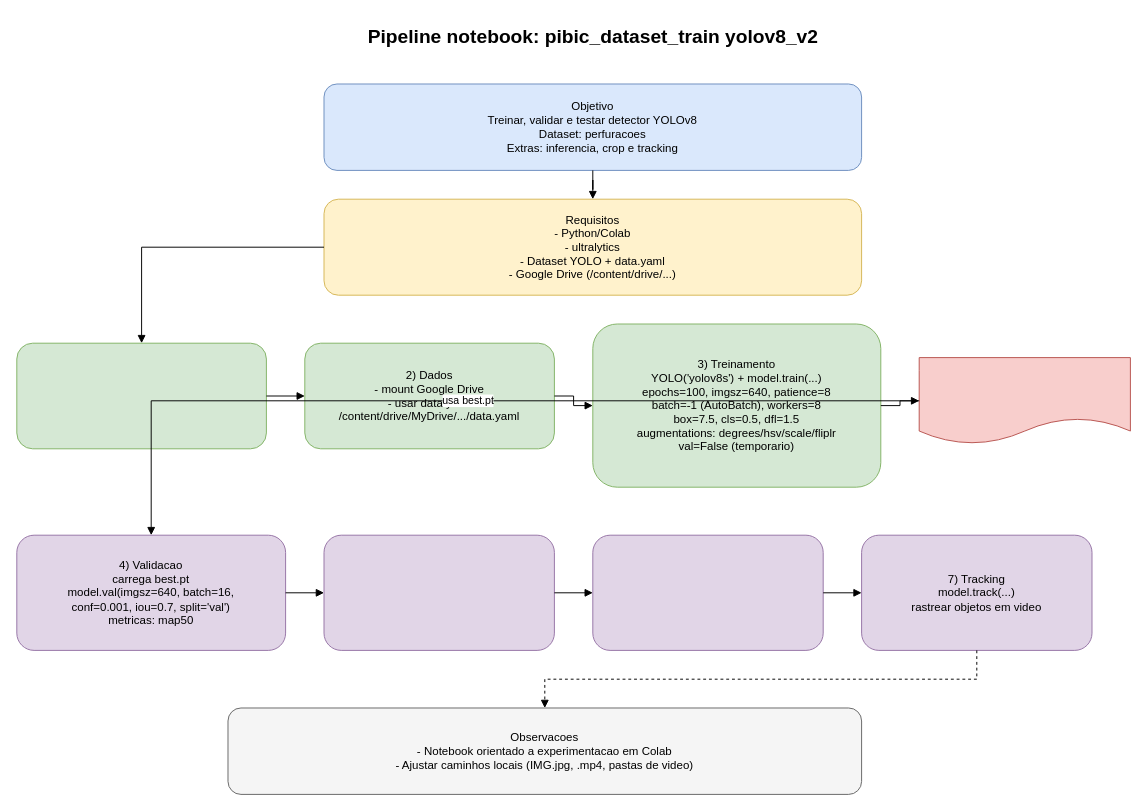
The diagram is 1147 pixels wide and 811 high, and some of its shapes have lost their labels. Here are the shapes that lost their labels. From the top down, the centre of each, then its label:
[141,395]: 1) Setup - rm -rf runs/ - pip install ultralytics - configurar runs_dir
[1024,400]: Artefato runs/detect/train/weights/best.pt
[438,592]: 5) Inferencia - imagem - video - save/save_txt/save_conf/save_crop
[707,592]: 6) Pos-processamento - extrai xyxy - crop com Pillow/OpenCV
